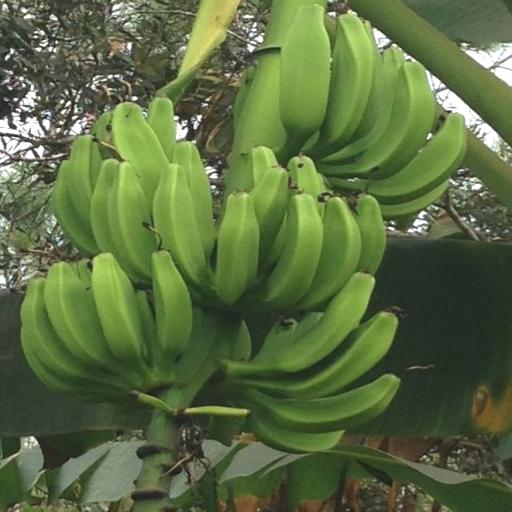banana-unripe: (0, 3, 512, 494)
